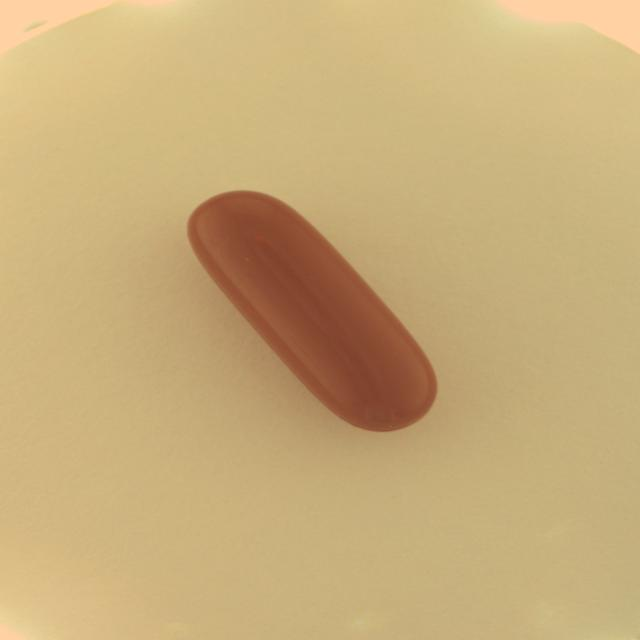Oval: (184, 185, 438, 435)
